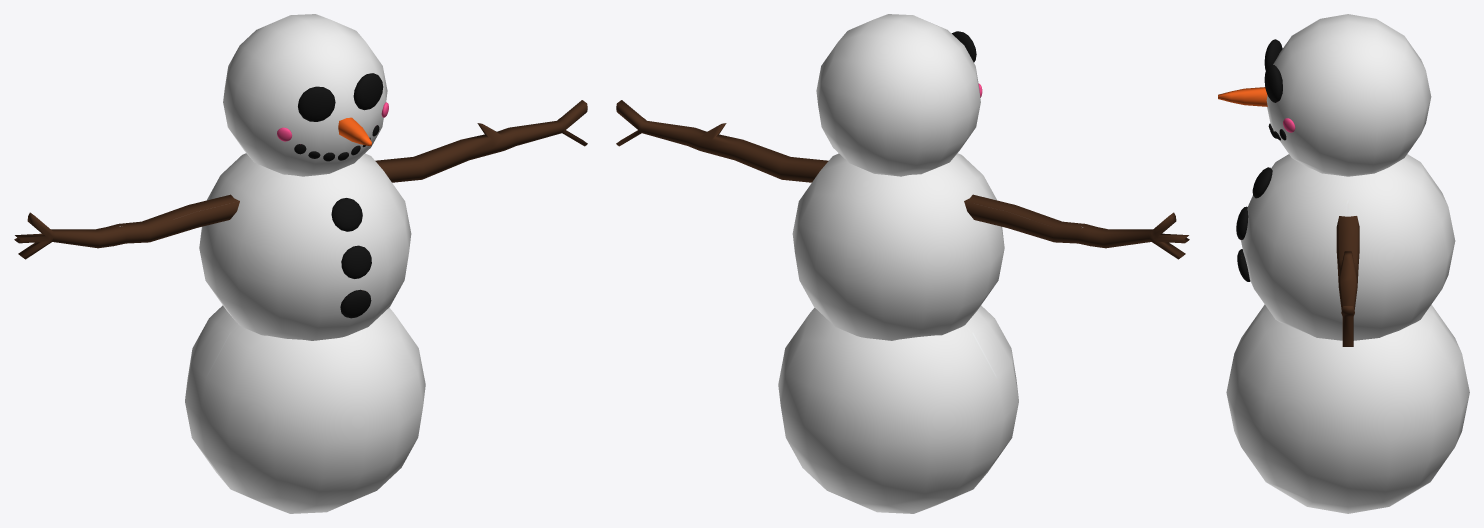
File: happy-snowman.glb
3 views of the same model, side by side, from view 1: azimuth 30°, elevation 25°; view 2: azimuth 150°, elevation 25°; view 3: azimuth 270°, elevation 25° (orthographic).
Visible parts, largest first — view 1: Roundcube, Roundcube.001, Roundcube.002, Cube.001, Roundcube.003, Roundcube.009, Roundcube.010, Roundcube.011; view 2: Roundcube, Roundcube.001, Roundcube.002, Cube.001; view 3: Roundcube, Roundcube.001, Roundcube.002, Cube.001, Roundcube.003, Cube, Roundcube.009, Roundcube.010.
Boxes of the visible parts, x1,y1,x2,y2 form: Roundcube: (185,305,425,513); Roundcube.001: (199,153,411,340); Roundcube.002: (223,14,387,176); Cube.001: (14,100,587,259); Roundcube.003: (298,73,383,121); Roundcube.009: (331,198,362,231); Roundcube.010: (341,245,371,278); Roundcube.011: (340,289,371,318); Roundcube: (778,305,1018,513); Roundcube.001: (792,153,1004,340); Roundcube.002: (816,14,980,176); Cube.001: (616,100,1189,259); Roundcube: (1226,304,1469,513); Roundcube.001: (1241,154,1455,340); Roundcube.002: (1266,14,1431,176); Cube.001: (1336,216,1359,346); Roundcube.003: (1264,39,1282,102); Cube: (1218,87,1267,106); Roundcube.009: (1252,167,1272,198); Roundcube.010: (1236,206,1248,239).
Bounding box in the file's own units: 7308 × 5922 × 2808.
Materials: 2 (2 with a texture image).
